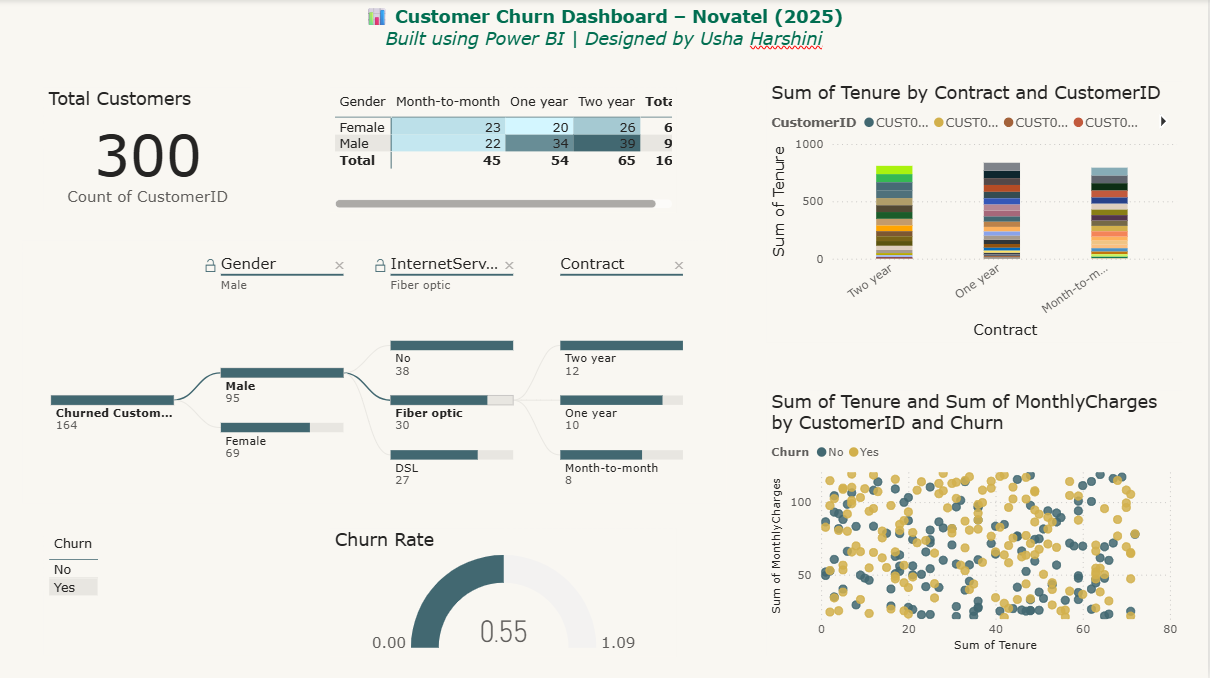

Layout of this report page (visuals, bound fields, positions):
{"tool":"powerbi","page":{"name":"Page 1","canvas":[1280,720],"ordinal":0},"visuals":[{"type":"card","title":"Total Customers","fields":{"Values":["Count(Sheet1.CustomerID)"]},"box":[45.3,93.9,220.2,131.2],"z":0},{"type":"pivotTable","fields":{"Rows":["Sheet1.Gender"],"Columns":["Sheet1.Contract"],"Values":["Sheet1.Churned Customers"]},"box":[349.8,93.9,367.6,132.8],"z":1000},{"type":"decompositionTreeVisual","fields":{"Analyze":["Sheet1.Churned Customers"],"ExplainBy":["Sheet1.Gender","Sheet1.InternetService","Sheet1.Contract"]},"box":[24.3,255.8,746.5,278.5],"z":2000},{"type":"ribbonChart","fields":{"Y":["Sum(Sheet1.Tenure)"],"Category":["Sheet1.Contract"],"Series":["Sheet1.CustomerID"]},"box":[812.9,87.4,440.4,276.9],"z":3000},{"type":"scatterChart","fields":{"X":["Sum(Sheet1.Tenure)"],"Y":["Sum(Sheet1.MonthlyCharges)"],"Category":["Sheet1.CustomerID"],"Series":["Sheet1.Churn"]},"box":[812.9,414.5,440.4,281.7],"z":4000},{"type":"gauge","fields":{"Y":["Sheet1.Churn Rate"]},"box":[349.8,561.9,367.6,136],"z":5000},{"type":"tableEx","fields":{"Values":["Sheet1.Churn"]},"box":[45.3,563.5,220.2,132.8],"z":6000},{"type":"textbox","box":[0,0,1280.8,63.1],"z":7000}]}

Visuals, with their boxes in screenshot pixels (x1, y1, x2, y2), scaled from the page's 1280x720 canvas onto the 1210x678 screenshot:
"Total Customers" card: 43:88:251:212
pivotTable - Sheet1.Gender x Sheet1.Contract: 331:88:678:213
decompositionTreeVisual - Sheet1.Churned Customers x Sheet1.Gender: 23:241:729:503
ribbonChart - Sum(Sheet1.Tenure) x Sheet1.Contract: 768:82:1185:343
scatterChart - Sum(Sheet1.Tenure) x Sum(Sheet1.MonthlyCharges): 768:390:1185:656
gauge - Sheet1.Churn Rate: 331:529:678:657
tableEx - Sheet1.Churn: 43:531:251:656
textbox: 0:0:1209:59
